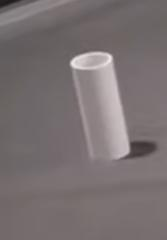coral: (69, 51, 131, 161)
